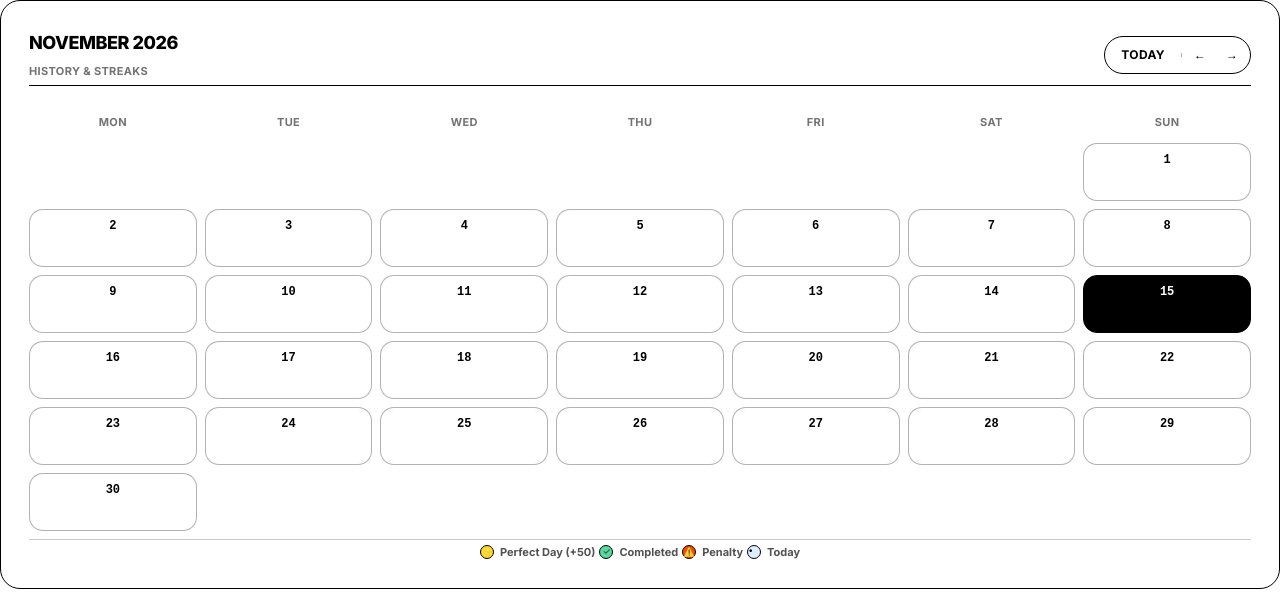
components/Calendar (spec) › renders month navigation and responds to month switching
The image size is (1280, 606).
Expected: the heading "November 2026" is shown, [29,29,178,57]
Click the button named "previous month" at (1200, 55), box [1186,41,1214,69]
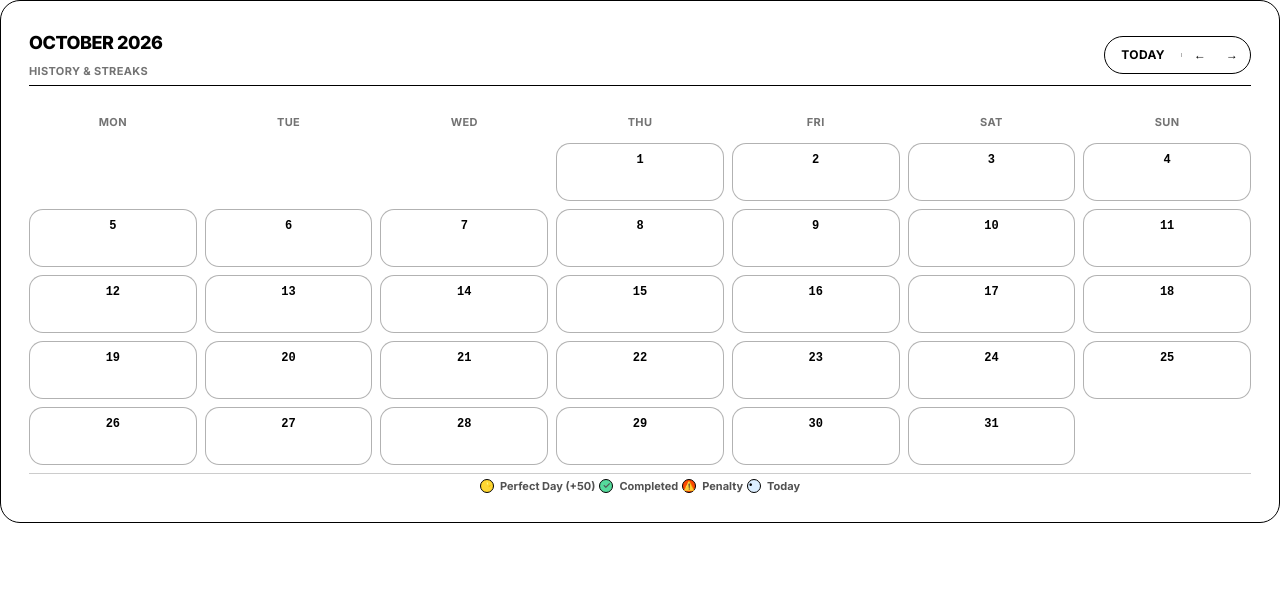
Result: the heading "October 2026" is shown at [29,29,162,57]
Click the button named "next month" at (1232, 55), box [1218,41,1246,69]
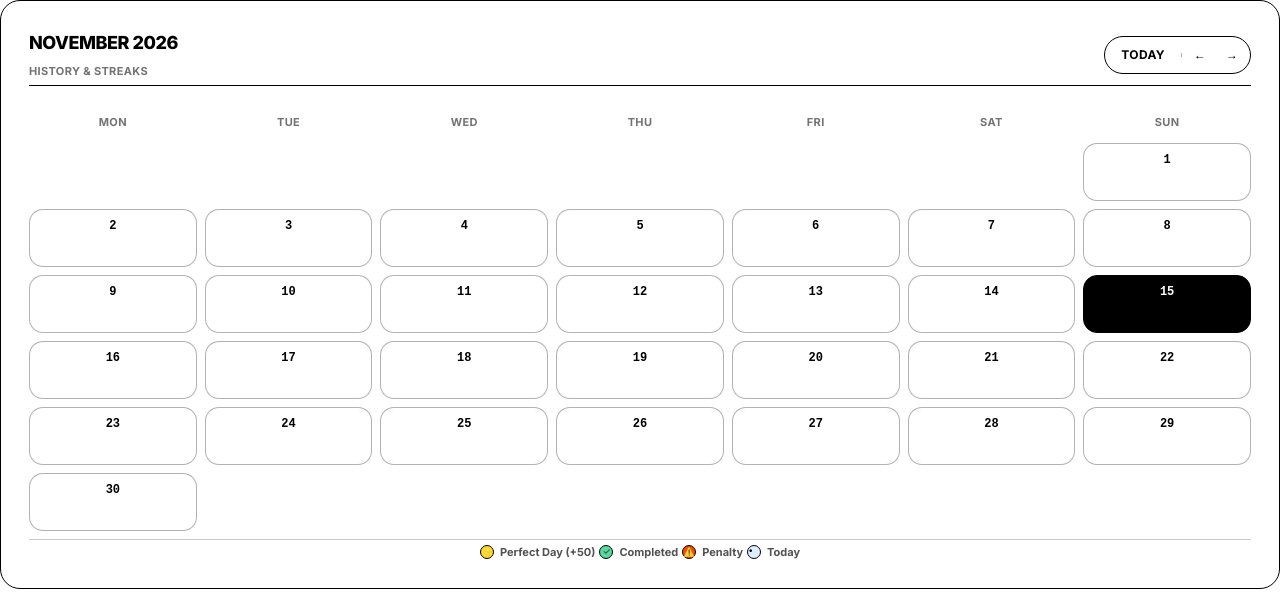
Result: the heading "November 2026" is shown at [29,29,178,57]
